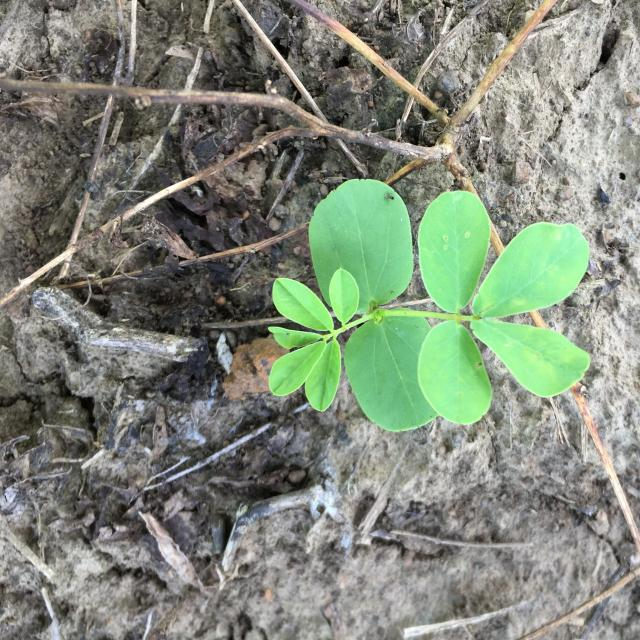Sicklepod: (269, 179, 591, 432)
